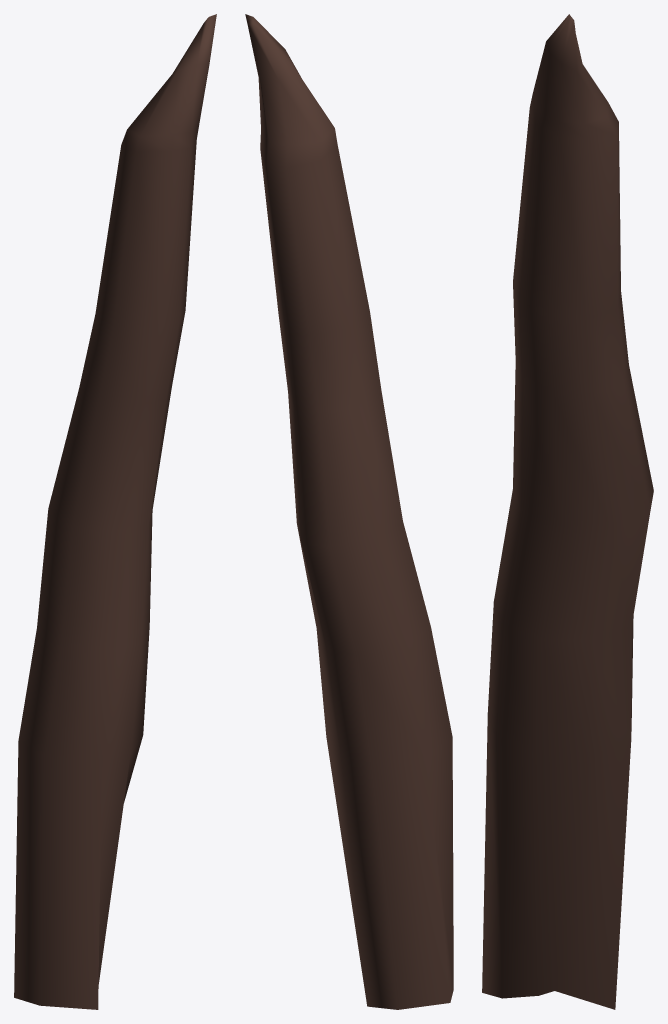
Rendered from SingleSpike.fbx.
3 renders of one model, left to right at view 1: azimuth 30°, elevation 25°; view 2: azimuth 150°, elevation 25°; view 3: azimuth 270°, elevation 25°, orthographic. The views are drawn at different scales.
Visible parts, largest first — view 1: spike; view 2: spike; view 3: spike.
Boxes of the visible parts, x1=… form: spike: x1=14, y1=14, x2=216, y2=1009; spike: x1=245, y1=14, x2=453, y2=1009; spike: x1=482, y1=14, x2=653, y2=1009.
Bounding box in the file's own units: 95.46 × 420 × 61.11.
